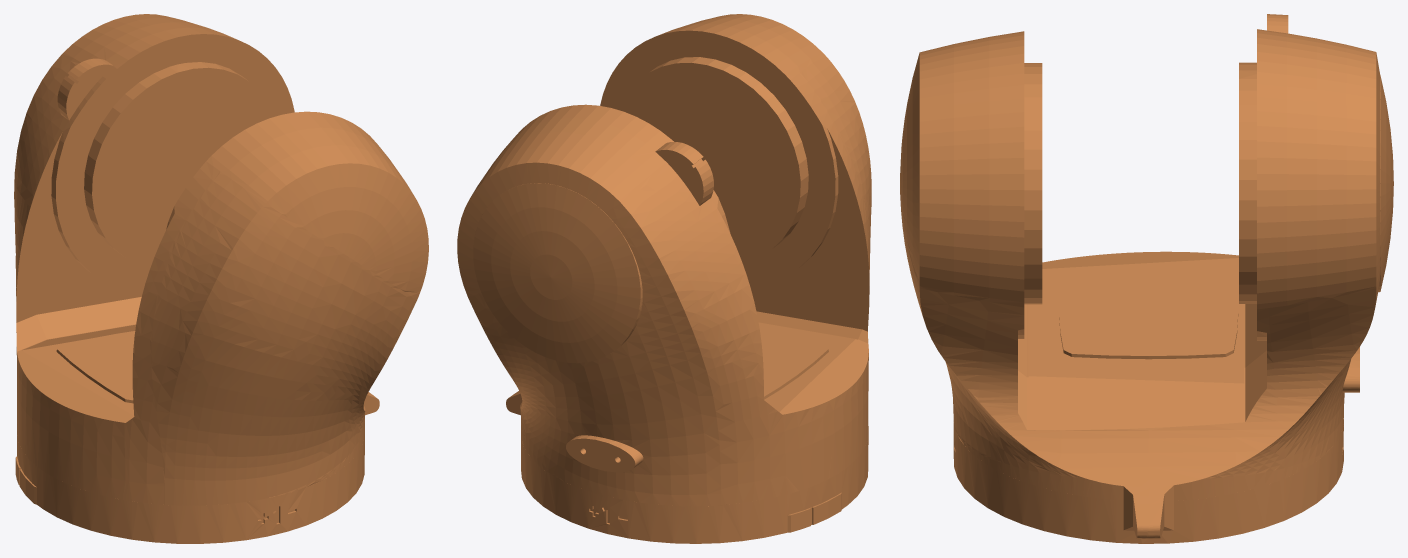
3 views of the same model, side by side, from view 1: azimuth 30°, elevation 25°; view 2: azimuth 150°, elevation 25°; view 3: azimuth 270°, elevation 25° (orthographic). The views are drawn at different scales.
Visible parts, largest first — view 1: Link_1; view 2: Link_1; view 3: Link_1.
Boxes of the visible parts, x1,y1,x2,y2 form: Link_1: (14,14,428,543); Link_1: (457,14,871,543); Link_1: (900,14,1393,543).
Size of the model in its own units: 0.2428 by 0.2759 by 0.2693.
